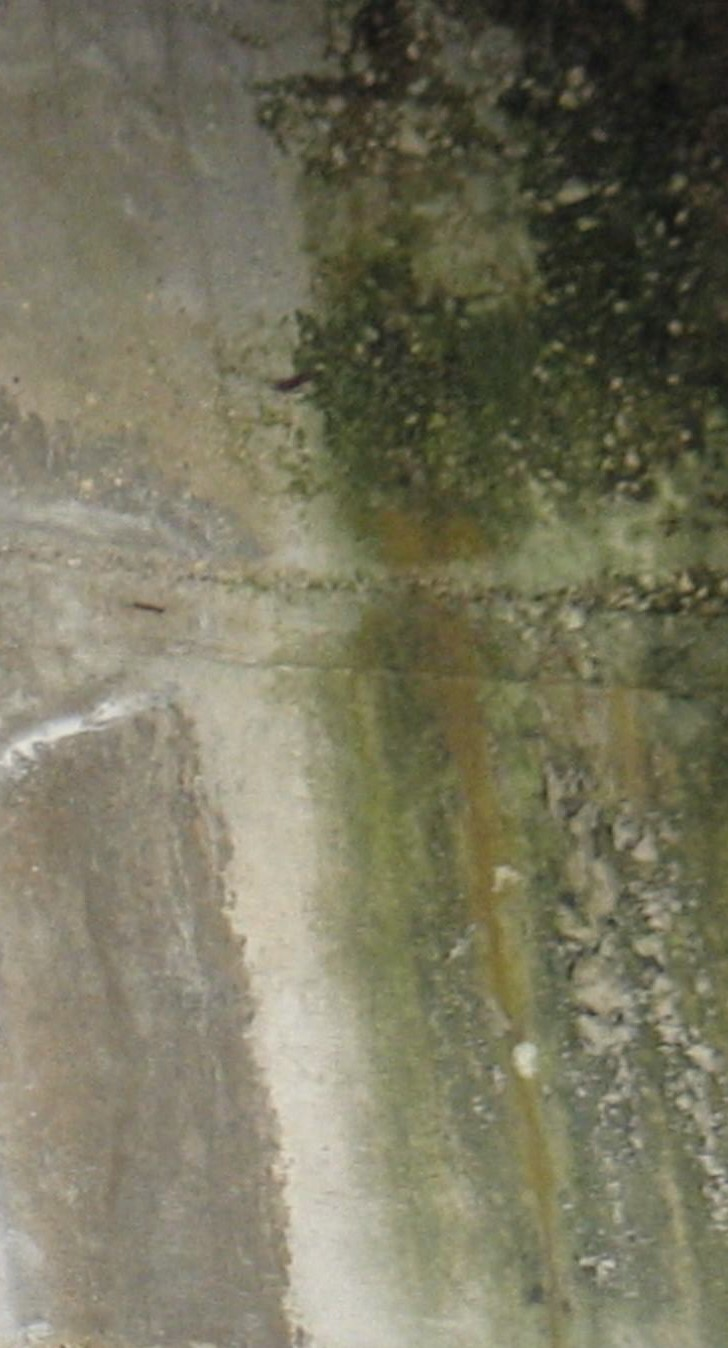Corrosion: (244, 1, 728, 1348), (1, 673, 297, 1348)
